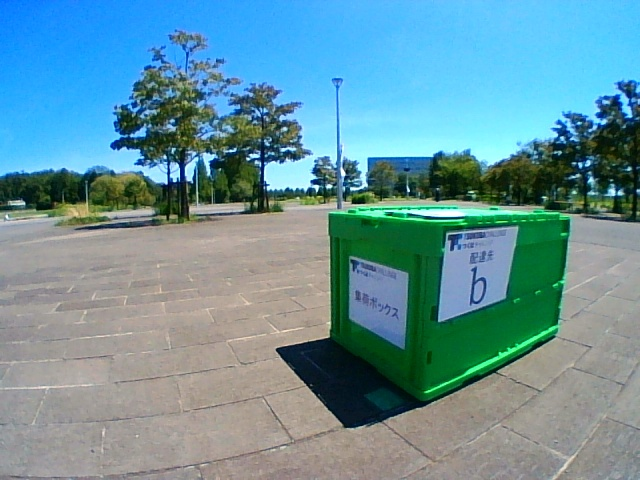green_box: (330, 206, 566, 336)
tag_b: (463, 236, 488, 307)
